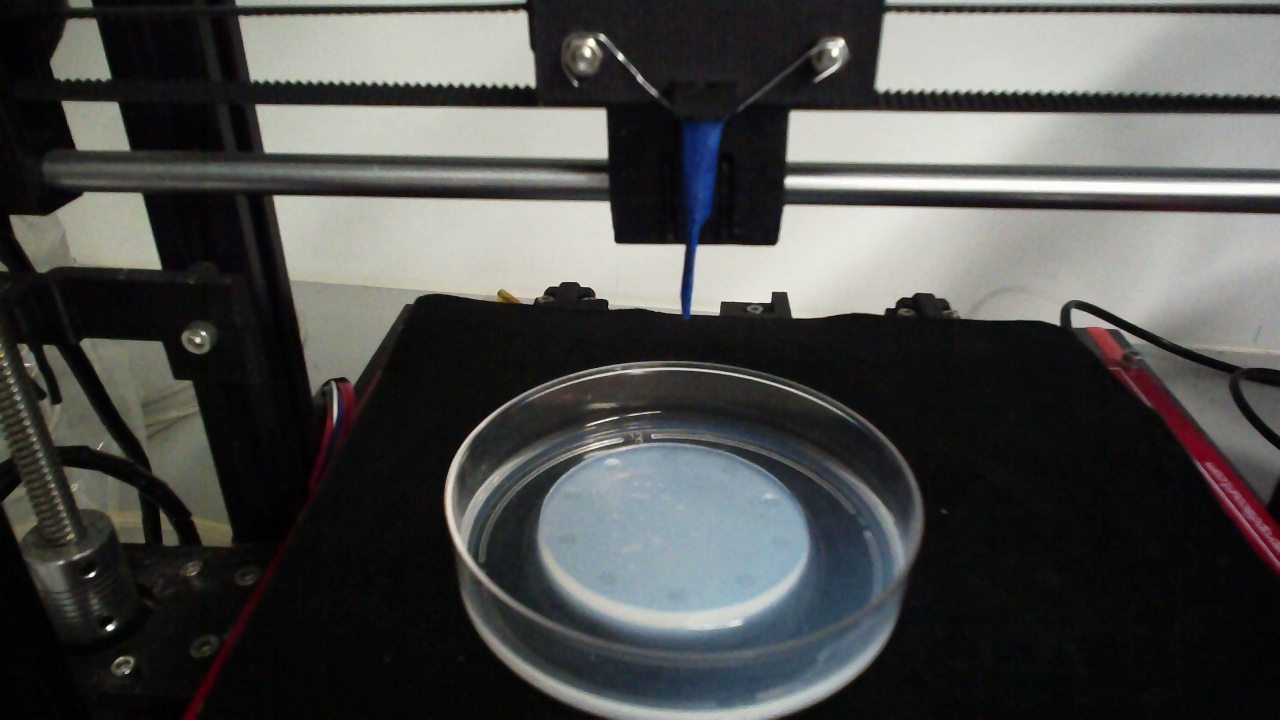groove: (768, 532, 792, 554), (665, 587, 690, 607), (658, 446, 682, 465), (592, 570, 620, 586), (732, 572, 758, 589), (554, 531, 579, 548), (718, 460, 742, 477), (761, 492, 784, 509), (559, 487, 582, 502), (602, 457, 622, 472)
needle: (681, 121, 720, 320)
